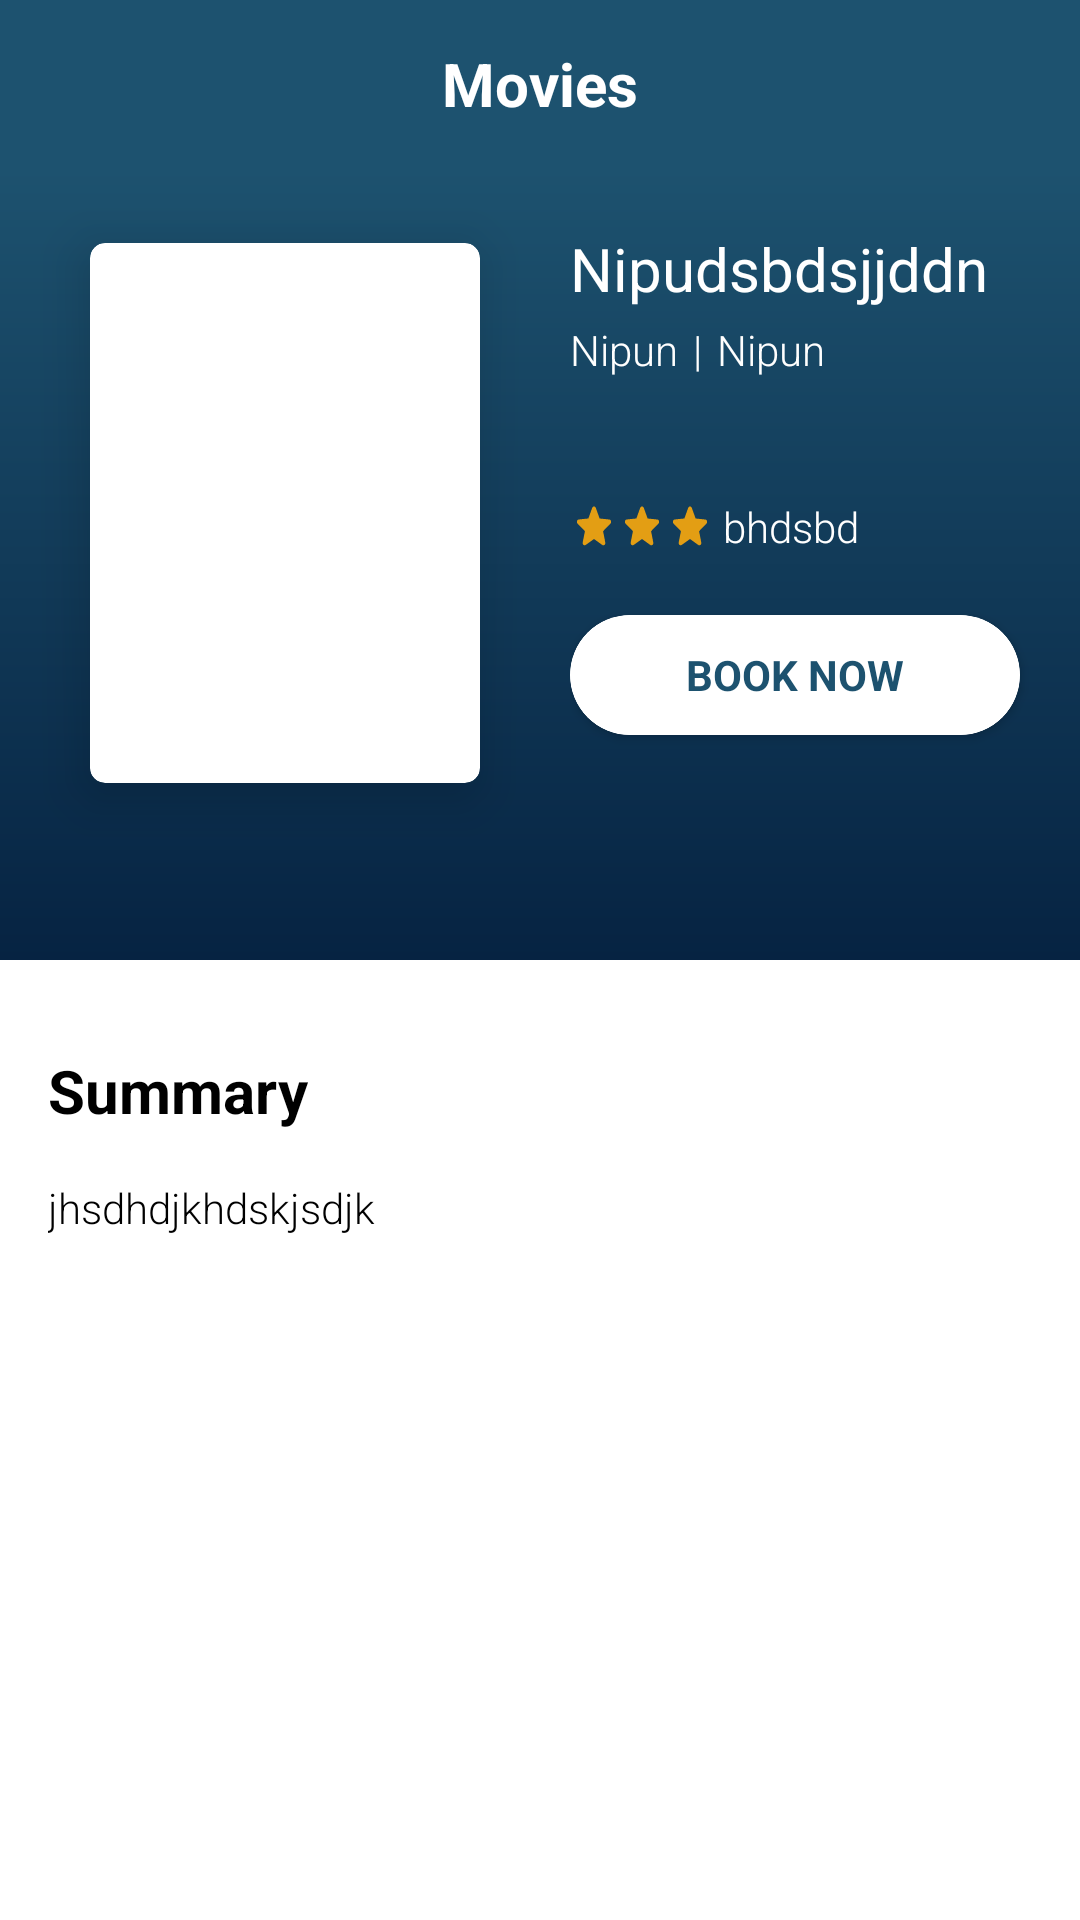

Point at icon controls on the screen. Image size 1080*1920, points as point (x, y).
star: point (594, 526), point (642, 526), point (690, 526)
